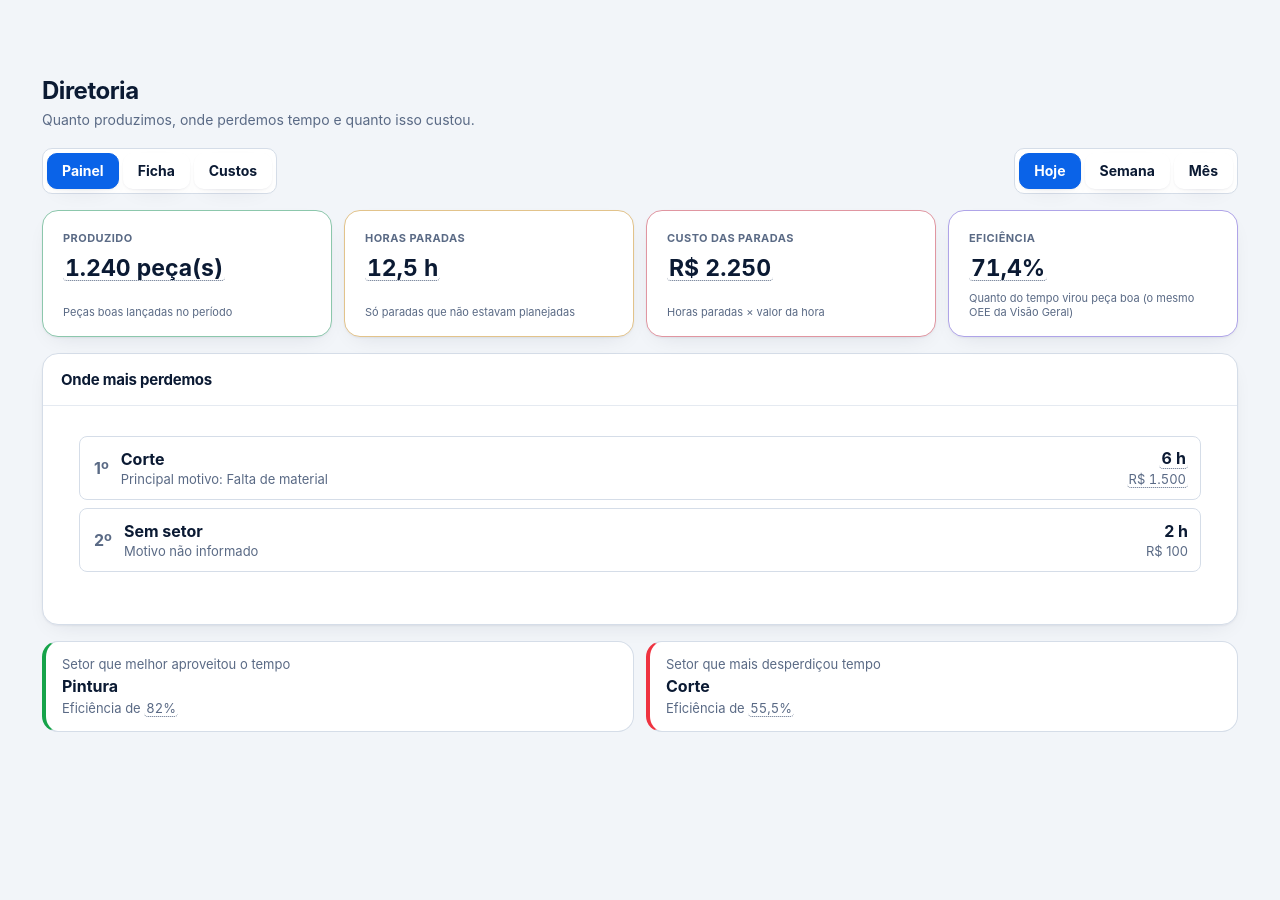
Diretoria: números clicáveis › recusa 403 mostra mensagem de acesso, sem expor erro técnico
Step 1. Click the button with aria-label "Ver de onde vem este número: Produzido" → point(144, 269), box [63, 257, 225, 281]
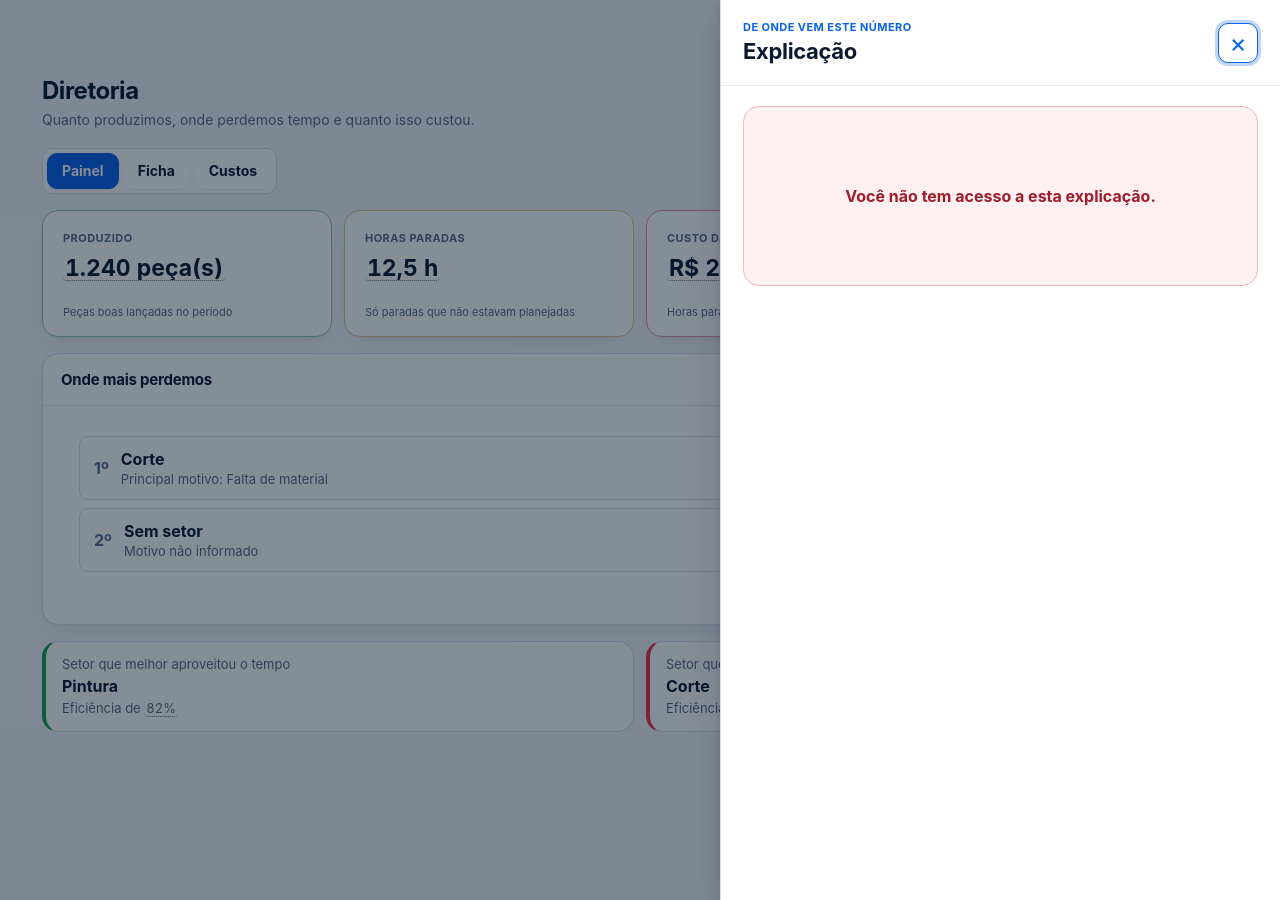
Result: the text "Você não tem acesso a esta explicação." is shown at [845, 186, 1156, 206]
